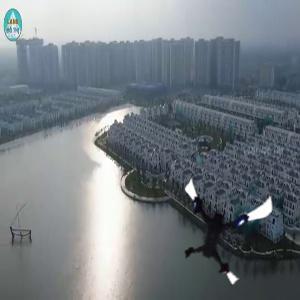drone: (166, 173, 269, 276)
